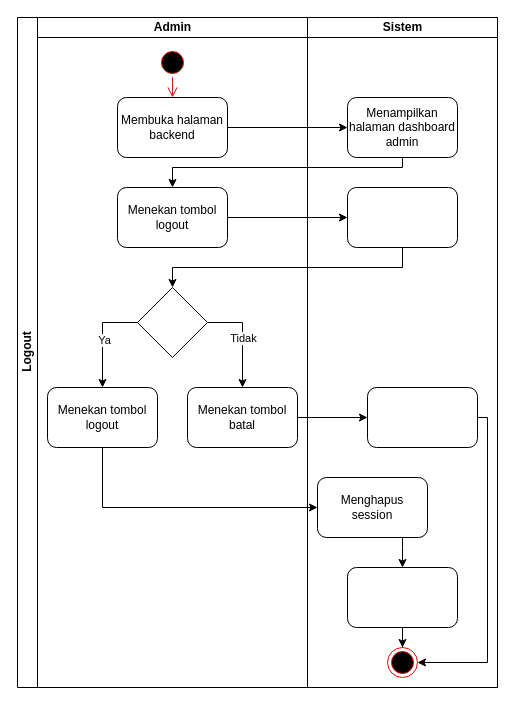
Image size: 515x705. Some labels were removed from this diagram. Each missing label, with the centre of its shape:
Logout?: the point at 172,322
Menampilkan halaman front-end: the point at 402,597
Menampilkan popup konfirmasi: the point at 402,217
Menghilangkan popup: the point at 422,417
